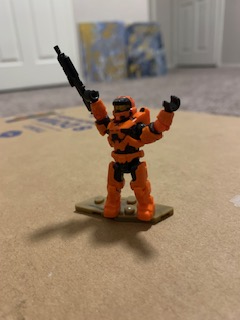rifle: (51, 45, 99, 115)
spartan: (86, 88, 181, 224)
up: (88, 88, 182, 154)
